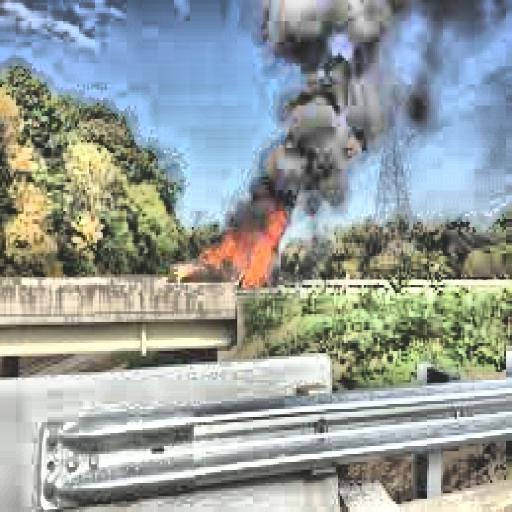fire: (182, 206, 294, 290)
